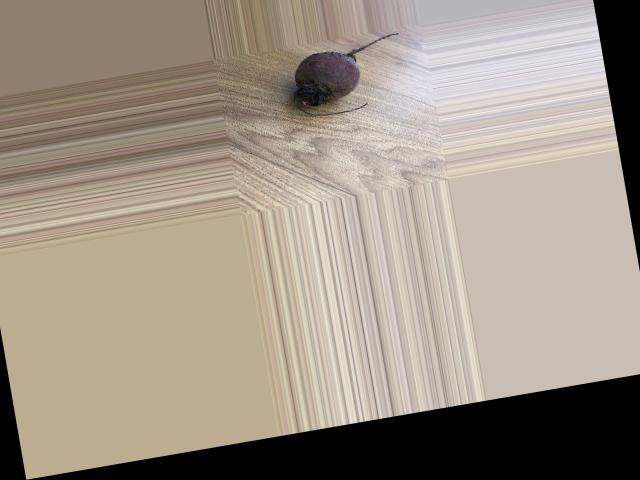beet: (287, 32, 410, 120)
